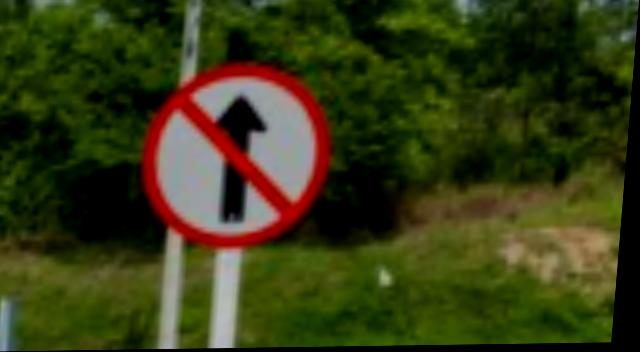not_go_straight: (139, 63, 341, 249)
